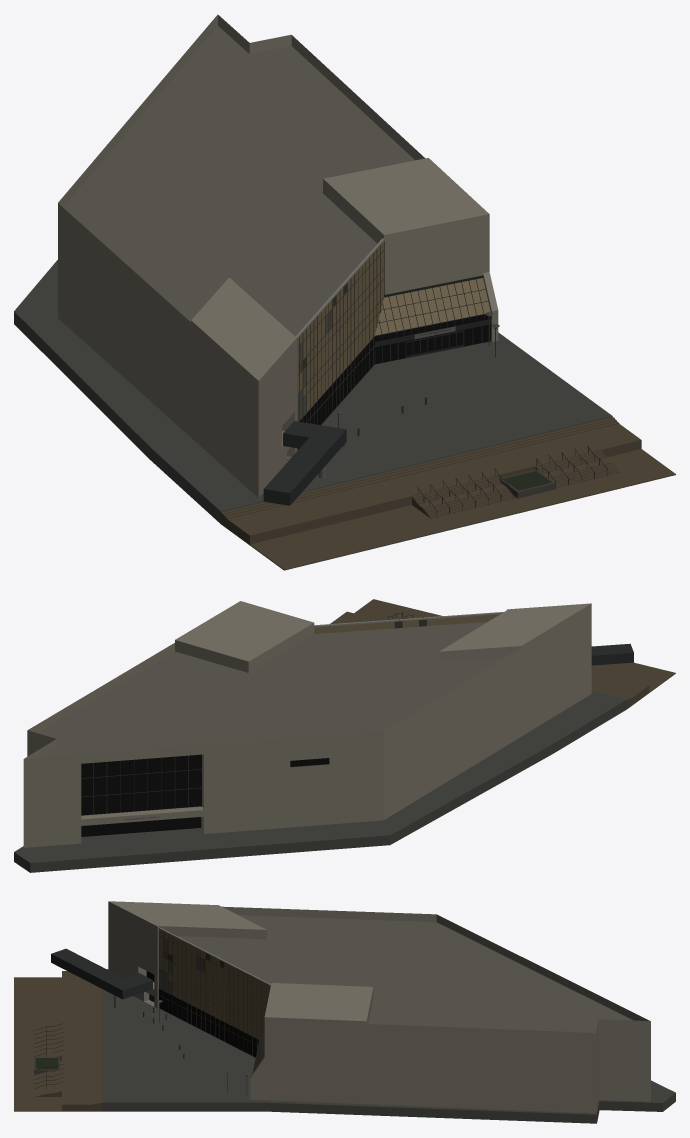
The model's file is graduate-school-of-business-look.glb.
3 views of the same model, one above another, from view 1: azimuth 30°, elevation 25°; view 2: azimuth 150°, elevation 25°; view 3: azimuth 270°, elevation 25° (orthographic). The views are drawn at different scales.
Visible parts, largest first — view 1: n_roof_gravel, n_wall_travertine, n_paving_plaza, n_paving_aggregate, n_glass_bronze, n_glass_dark, n_bridge_cladding_bronze, n_metal_mullion_bronze, n_metal_fascia_bronze; view 2: n_wall_travertine, n_roof_gravel, n_paving_plaza, n_glass_dark, n_paving_aggregate, n_glass_bronze, n_metal_mullion_bronze, n_bridge_cladding_bronze, n_coping_white; view 3: n_wall_travertine, n_roof_gravel, n_paving_plaza, n_paving_aggregate, n_glass_bronze, n_metal_mullion_bronze, n_bridge_cladding_bronze, n_glass_dark, n_glass_grey, n_rail_bronze, n_coping_white.
Boxes of the visible parts, x1=… form: n_roof_gravel: x1=63, y1=26, x2=414, y2=336; n_wall_travertine: x1=58, y1=14, x2=498, y2=498; n_paving_plaza: x1=14, y1=260, x2=612, y2=523; n_paving_aggregate: x1=221, y1=417, x2=675, y2=570; n_glass_bronze: x1=297, y1=242, x2=490, y2=411; n_glass_dark: x1=297, y1=314, x2=491, y2=450; n_bridge_cladding_bronze: x1=263, y1=421, x2=346, y2=505; n_metal_mullion_bronze: x1=297, y1=241, x2=384, y2=424; n_metal_fascia_bronze: x1=374, y1=275, x2=491, y2=364; n_wall_travertine: x1=23, y1=601, x2=591, y2=847; n_roof_gravel: x1=37, y1=622, x2=504, y2=757; n_paving_plaza: x1=14, y1=691, x2=627, y2=872; n_glass_dark: x1=81, y1=754, x2=329, y2=836; n_paving_aggregate: x1=329, y1=599, x2=675, y2=708; n_glass_bronze: x1=314, y1=614, x2=499, y2=633; n_metal_mullion_bronze: x1=81, y1=755, x2=202, y2=815; n_bridge_cladding_bronze: x1=591, y1=643, x2=633, y2=665; n_coping_white: x1=314, y1=612, x2=503, y2=627; n_wall_travertine: x1=108, y1=901, x2=650, y2=1113; n_roof_gravel: x1=178, y1=915, x2=633, y2=1032; n_paving_plaza: x1=102, y1=969, x2=675, y2=1123; n_paving_aggregate: x1=14, y1=971, x2=102, y2=1111; n_glass_bronze: x1=159, y1=929, x2=270, y2=1071; n_metal_mullion_bronze: x1=158, y1=929, x2=269, y2=1057; n_bridge_cladding_bronze: x1=51, y1=948, x2=152, y2=999; n_glass_dark: x1=146, y1=971, x2=258, y2=1057; n_glass_grey: x1=159, y1=938, x2=200, y2=994; n_rail_bronze: x1=34, y1=1023, x2=63, y2=1088; n_coping_white: x1=158, y1=927, x2=270, y2=986.
Size of the model in its own units: 63.3 by 18.6 by 121.
